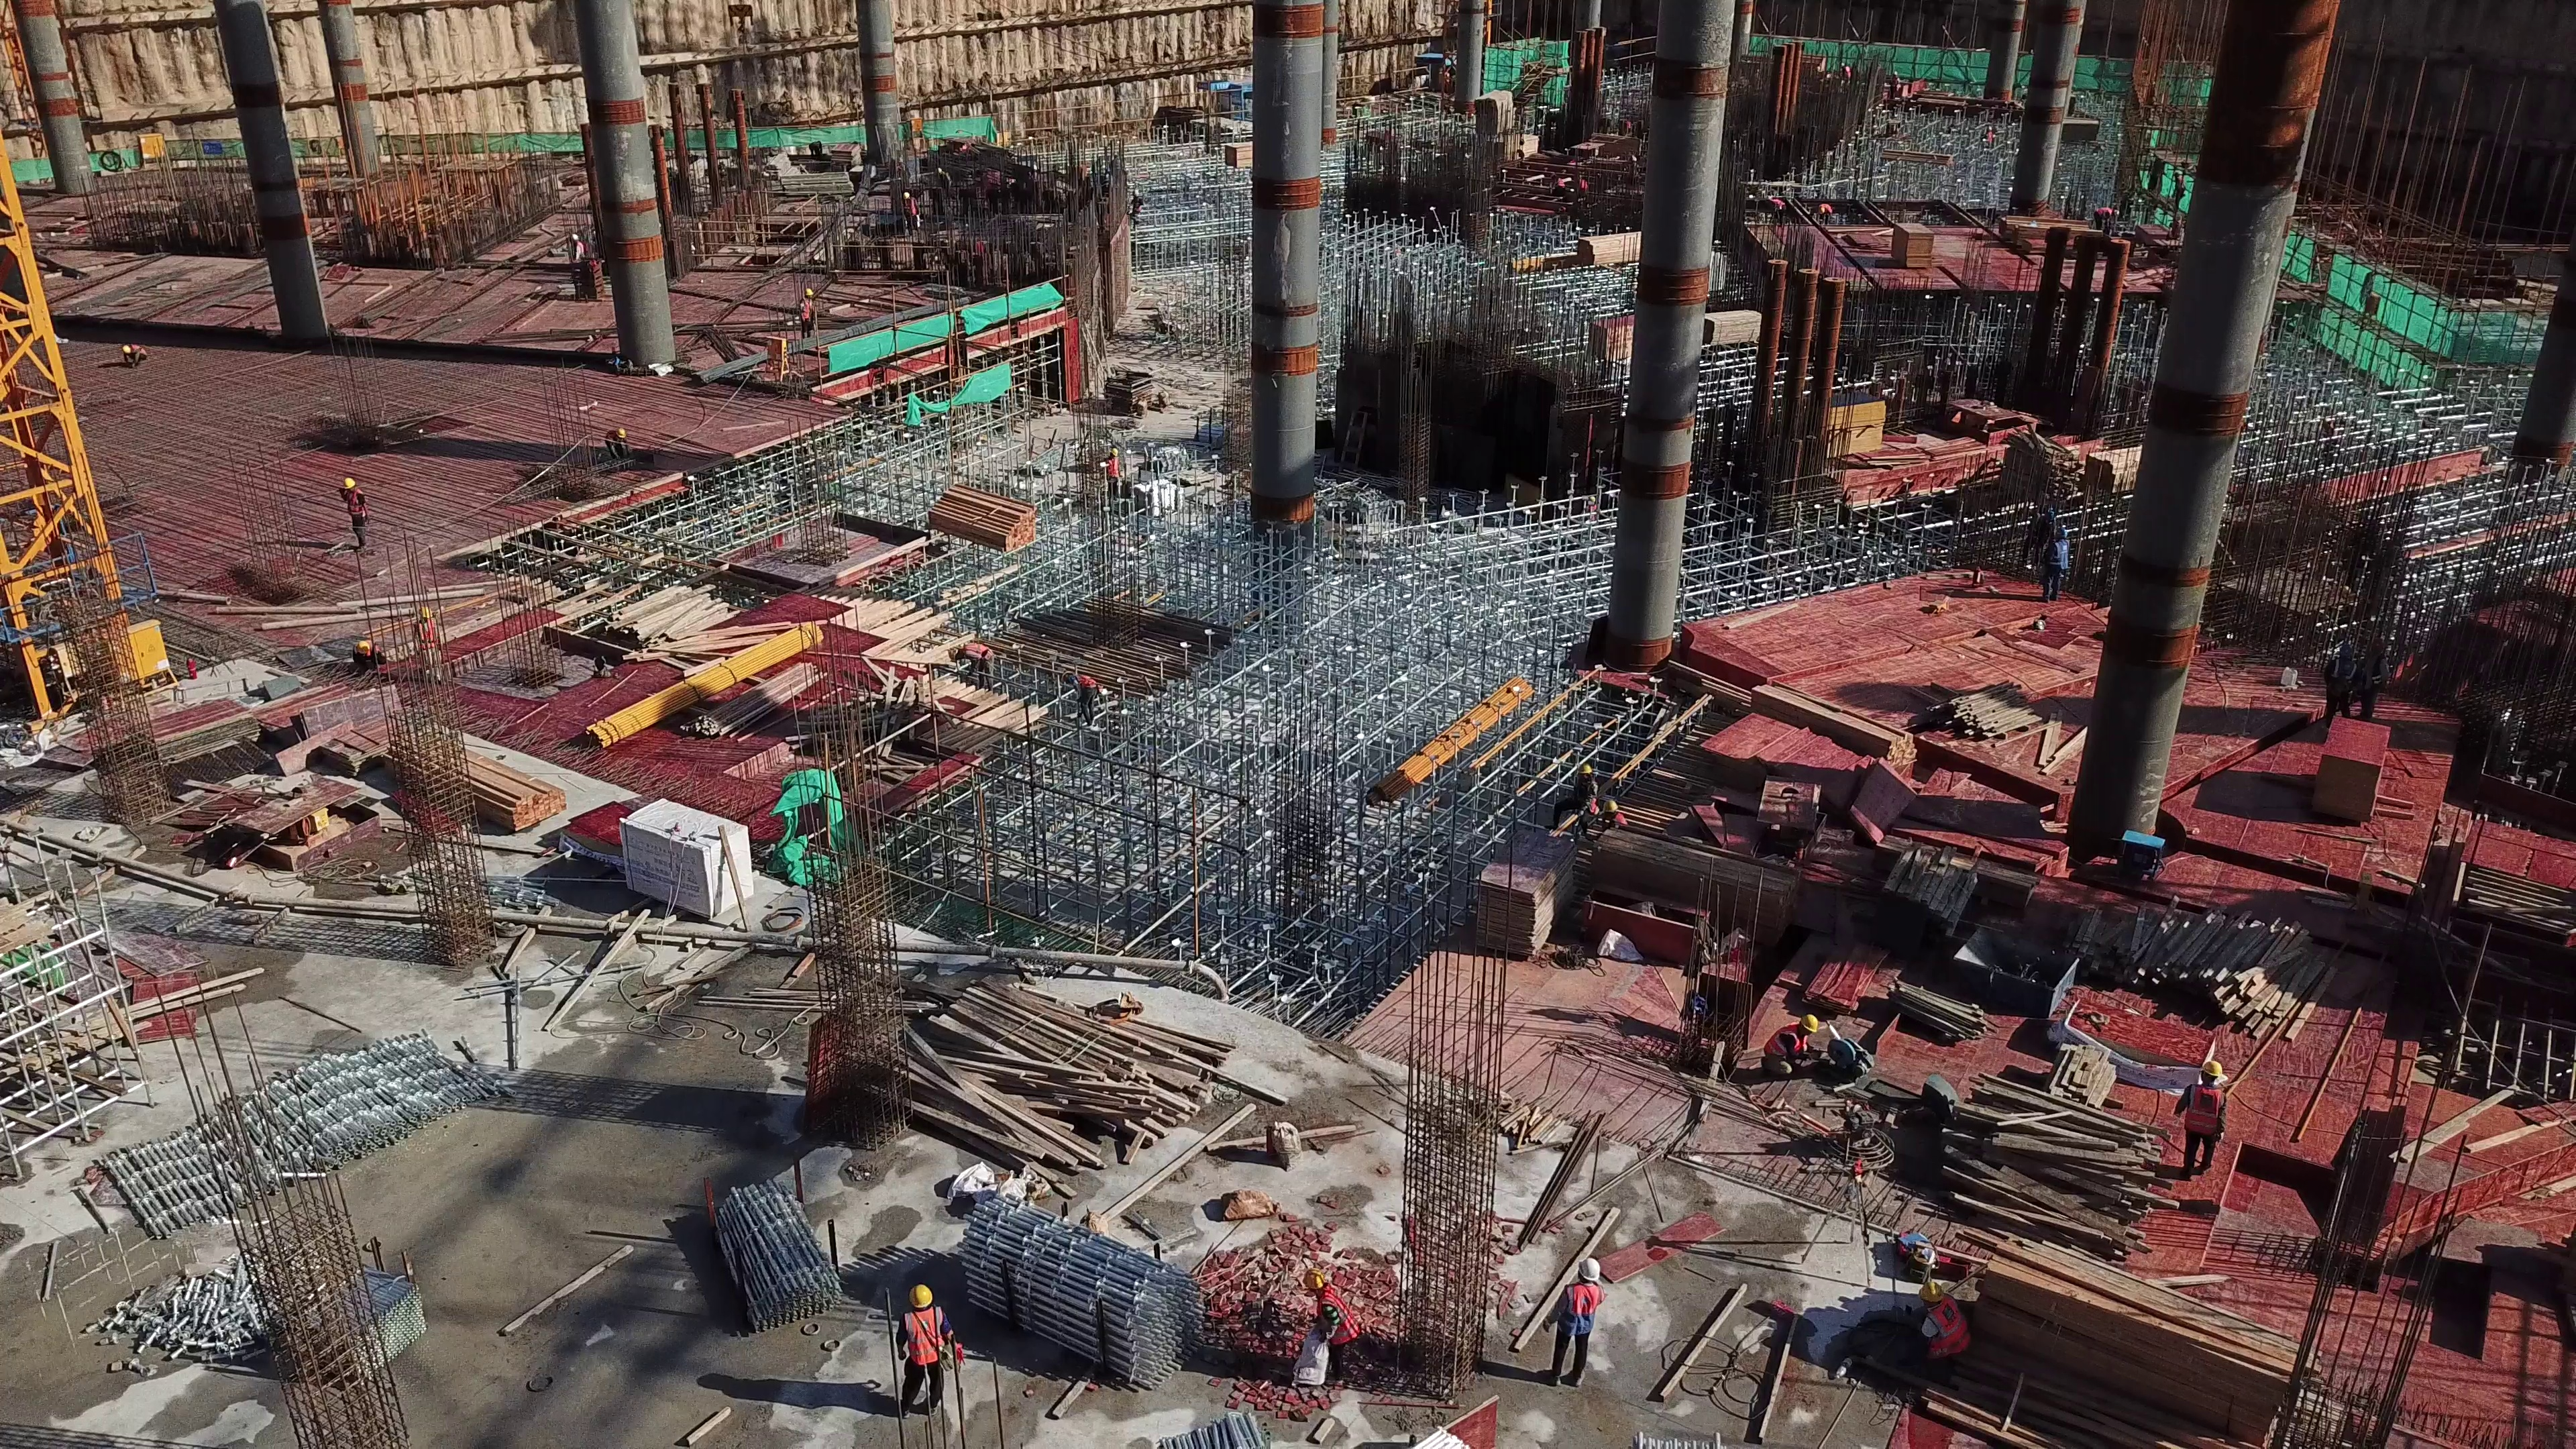helmet: (904, 1281, 932, 1313), (1301, 1269, 1337, 1294), (1574, 1260, 1607, 1283), (2196, 1058, 2224, 1082), (1912, 1286, 1943, 1309), (1799, 1013, 1821, 1034)
person: (1538, 1262, 1601, 1395), (892, 1279, 953, 1417), (1297, 1266, 1356, 1383), (2169, 1058, 2224, 1176), (1914, 1282, 1972, 1369), (1757, 1010, 1815, 1079), (2321, 643, 2353, 727), (1556, 765, 1597, 830), (335, 474, 370, 549), (405, 607, 441, 679), (2356, 643, 2390, 720), (2037, 525, 2070, 600), (946, 640, 994, 692), (1061, 671, 1097, 727), (1595, 796, 1633, 825), (1102, 449, 1122, 502), (796, 287, 814, 337), (600, 428, 627, 462), (901, 192, 920, 231), (119, 341, 148, 366), (1130, 192, 1145, 226)
vest: (899, 1311, 948, 1373), (2175, 1088, 2224, 1142), (1560, 1285, 1605, 1341), (1925, 1297, 1968, 1351), (1322, 1290, 1361, 1348), (1764, 1025, 1809, 1058), (2050, 539, 2072, 572)
